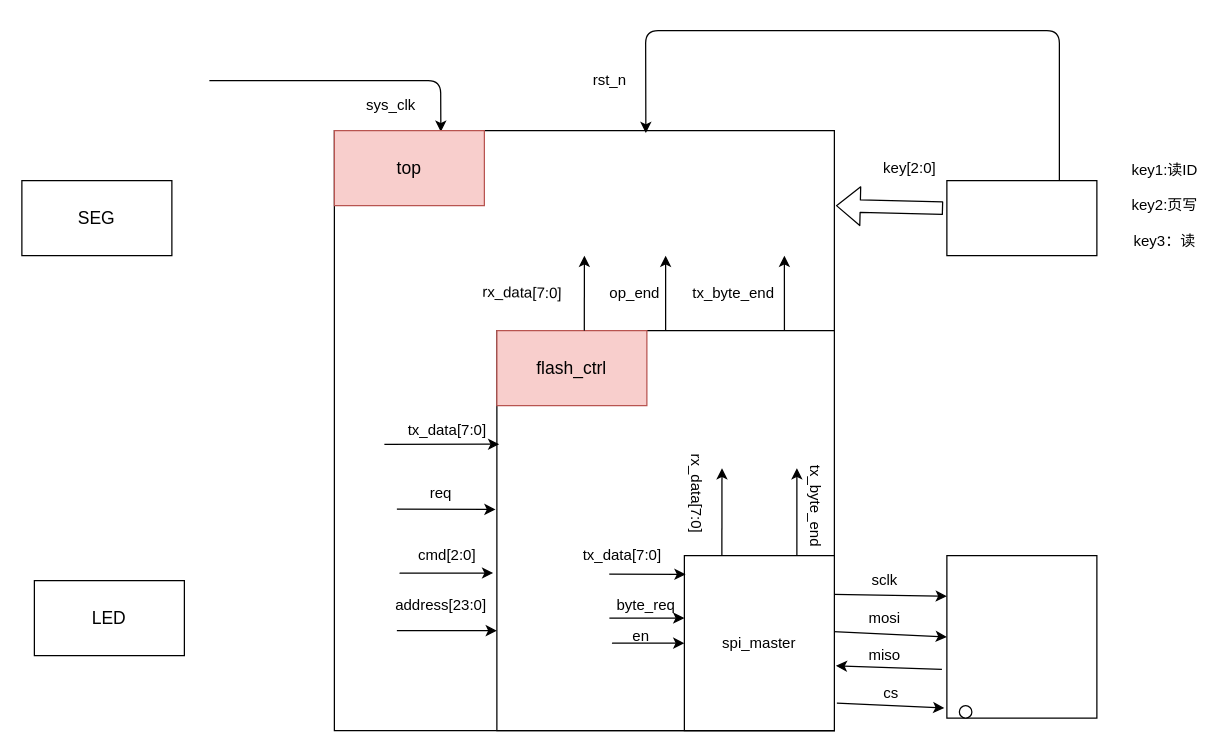
This 1230x753 diagram has some shape labels left out. Here are the shapes that lost their labels. From the top down, the centre of each, then its label:
At point (1021, 217): "KEY".
At point (1021, 636): "FLASH".
